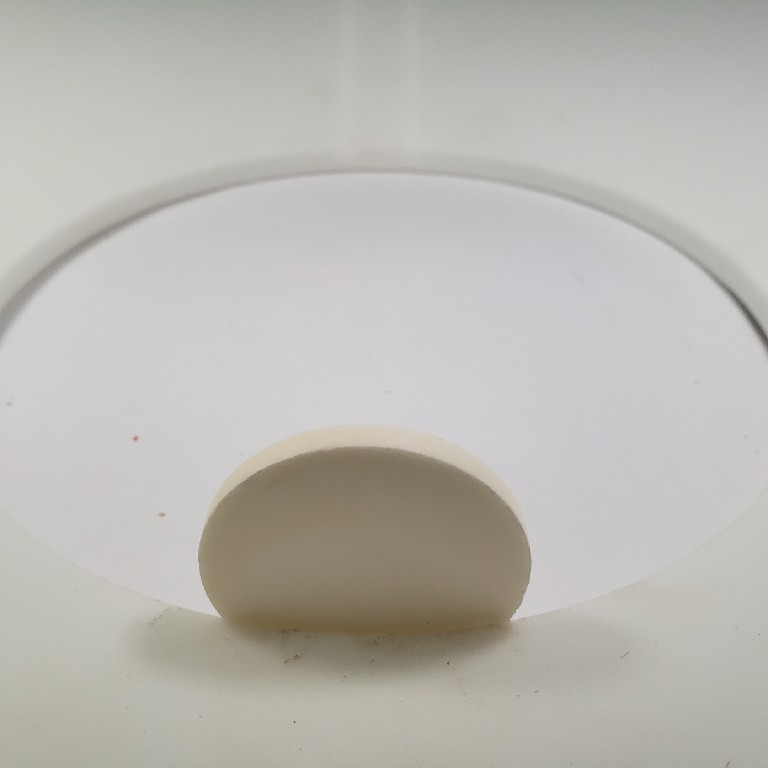ceramics: (190, 417, 534, 640)
